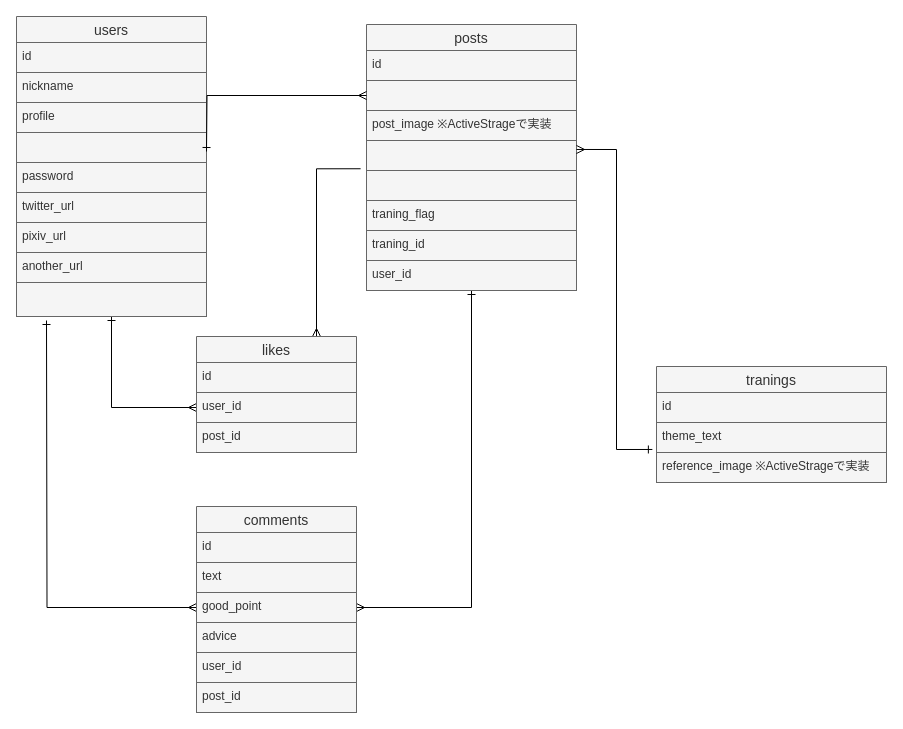
Image size: 903x729. Some labels were removed from this diagram. The centre of each missing label's shape, as x and y in pixels:
advice_flag: the point at 471,185
description: the point at 471,155
email: the point at 111,147
title: the point at 471,95
user_image ※ActiveStrageで実装: the point at 111,299
